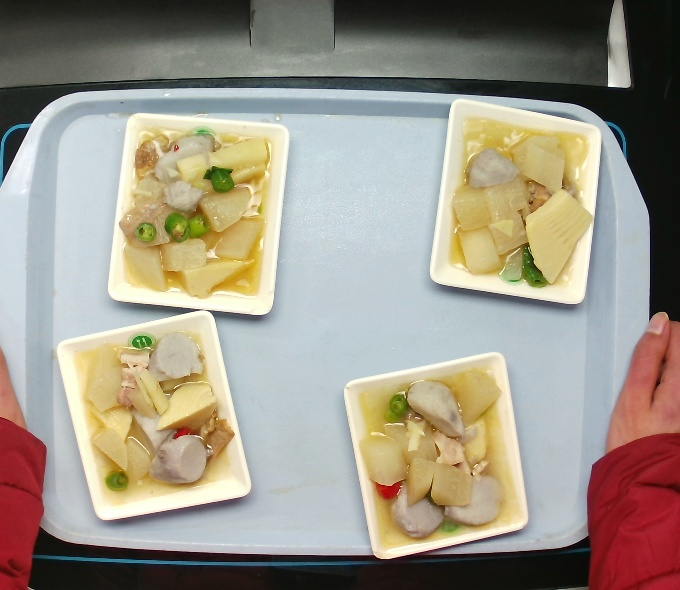wcq-YangYuChunSunDunLuoBo: (118, 122, 289, 310), (354, 363, 523, 548), (68, 327, 237, 512), (444, 119, 596, 297)
